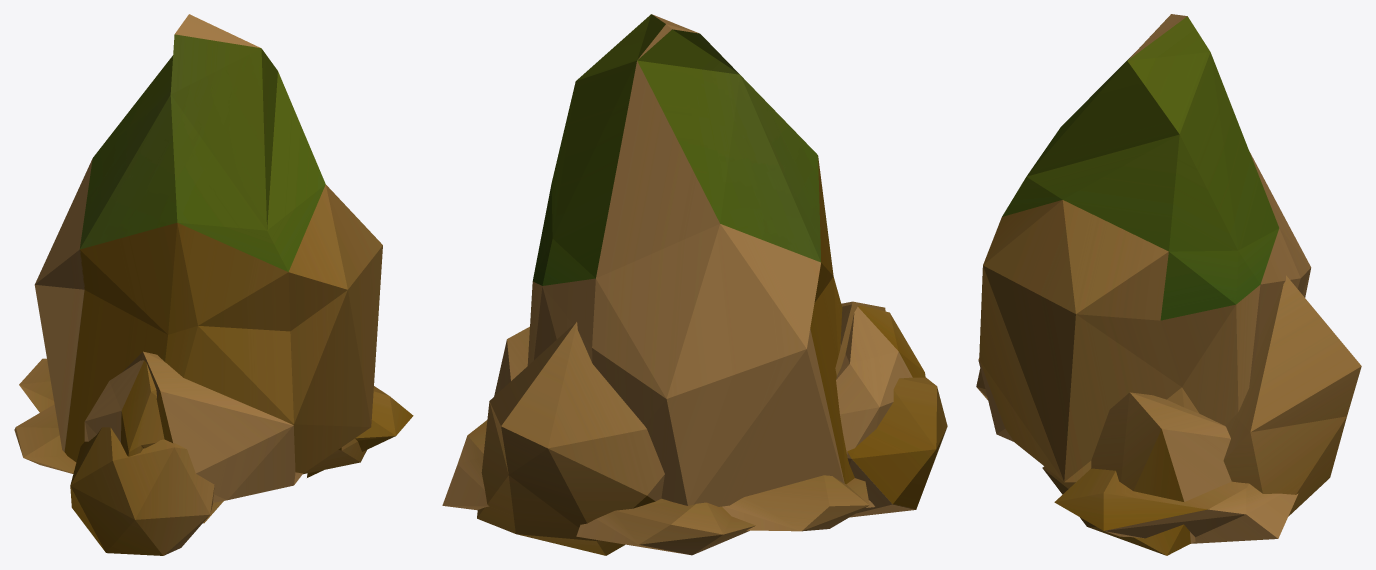
The model's file is pillar_rock.FBX.
3 renders of one model, left to right at view 1: azimuth 30°, elevation 25°; view 2: azimuth 150°, elevation 25°; view 3: azimuth 270°, elevation 25°, orthographic. The views are drawn at different scales.
Visible parts, largest first — view 1: GeoSphere003; view 2: GeoSphere003; view 3: GeoSphere003.
Part boxes in pixels (x1,y1,x2,y2): GeoSphere003: [14, 14, 413, 555]; GeoSphere003: [442, 14, 947, 555]; GeoSphere003: [976, 14, 1361, 555].
Size of the model in its own units: 98.13 by 121 by 88.03.
Materials: 2 (2 with a texture image).
